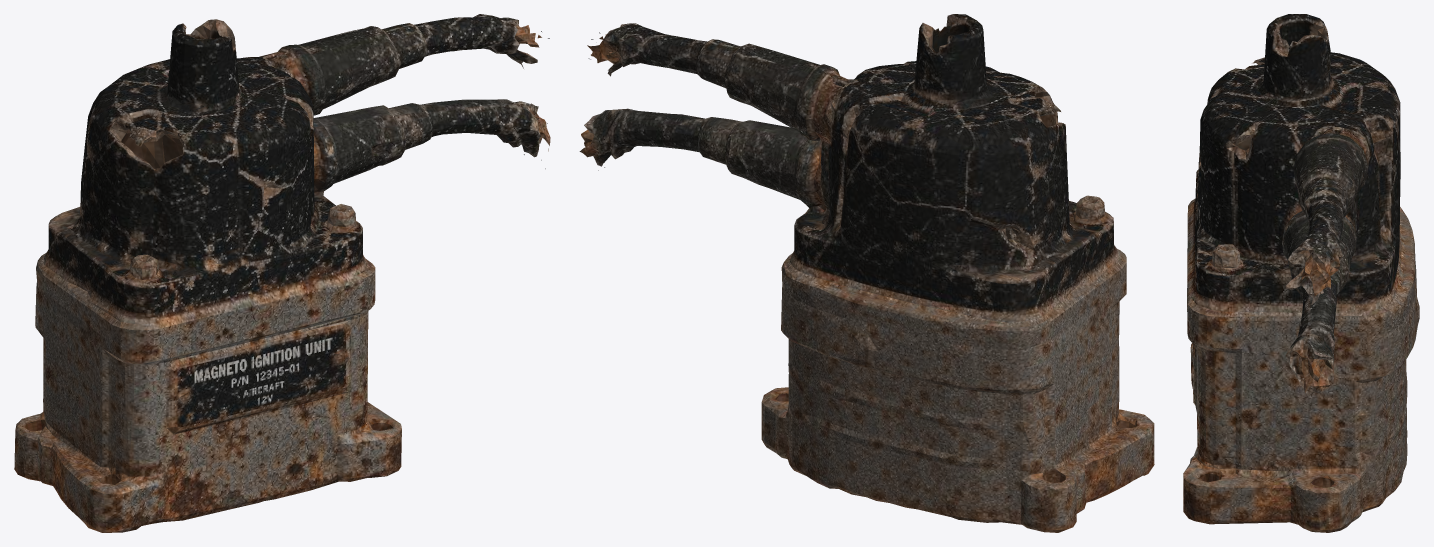
The model's file is magneto_broken.glb.
3 views of the same model, side by side, from view 1: azimuth 30°, elevation 25°; view 2: azimuth 150°, elevation 25°; view 3: azimuth 270°, elevation 25° (orthographic). The views are drawn at different scales.
Parts seen in each view (by area): view 1: magneto_broken; view 2: magneto_broken; view 3: magneto_broken.
Boxes of the visible parts, x1,y1,x2,y2 form: magneto_broken: [14, 14, 550, 532]; magneto_broken: [579, 14, 1154, 532]; magneto_broken: [1183, 14, 1419, 532].
Size of the model in its own units: 1.88 by 1.55 by 0.7709.
Materials: 1 (1 with a texture image).
